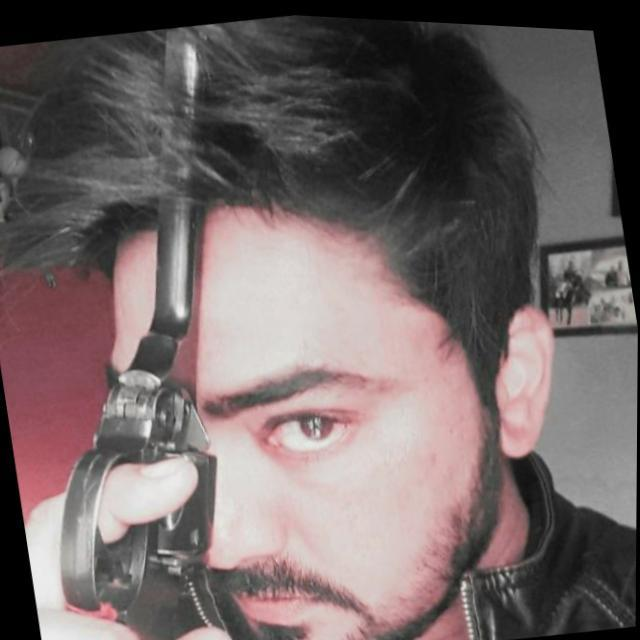weapon: (0, 13, 313, 640)
